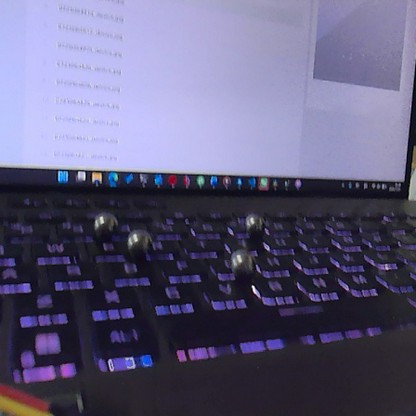ironball: (121, 223, 151, 258), (224, 248, 256, 279), (89, 209, 118, 240), (241, 211, 267, 239)
